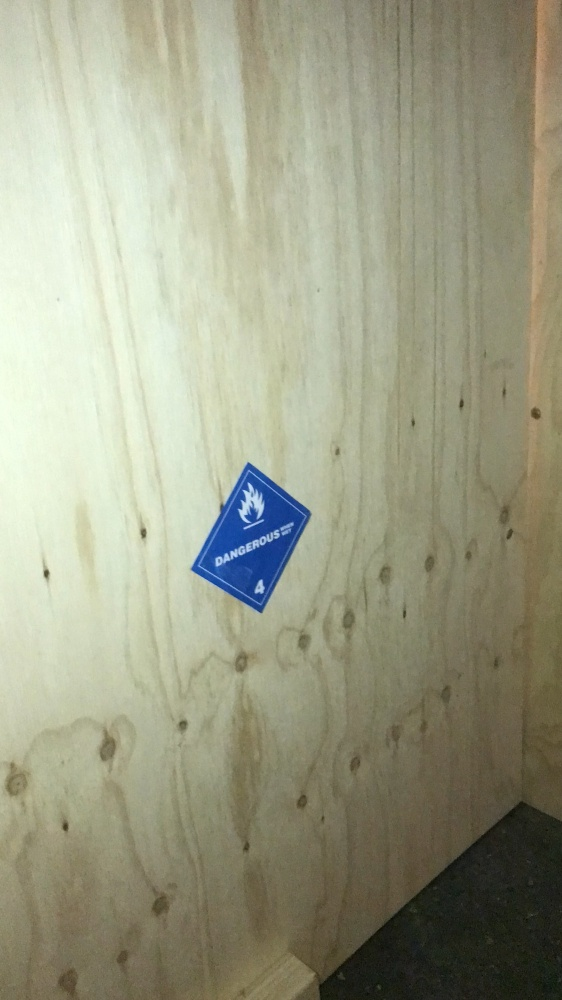Dangerous when wet: (191, 462, 312, 613)
